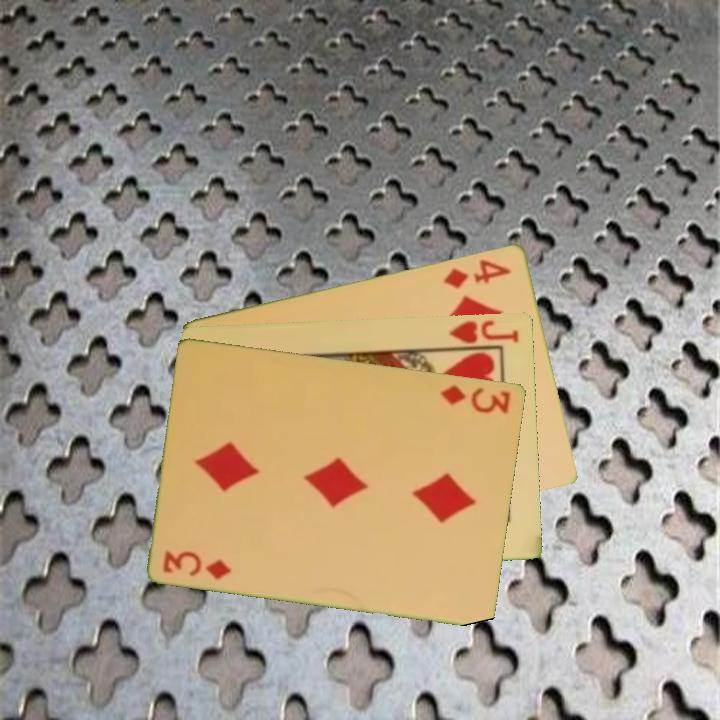3d: (160, 546, 235, 582), (437, 381, 514, 416)
4d: (440, 255, 515, 291)
Jh: (439, 316, 522, 351)
